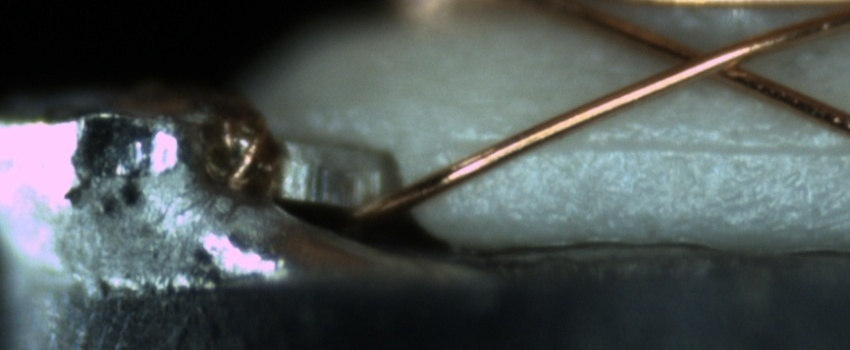CL: (646, 34, 771, 89)
DL: (463, 116, 849, 174)
TE: (204, 96, 280, 214)
